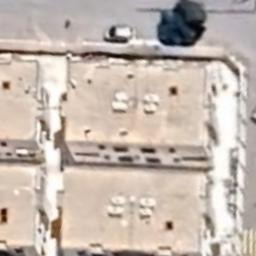sedan: (102, 22, 138, 44)
